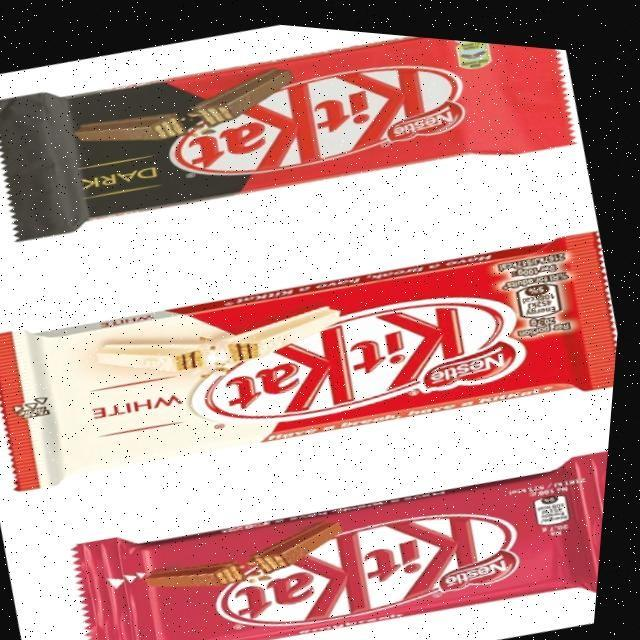kitkat_chocolate: (30, 233, 610, 480), (90, 463, 625, 640), (12, 28, 570, 187)
